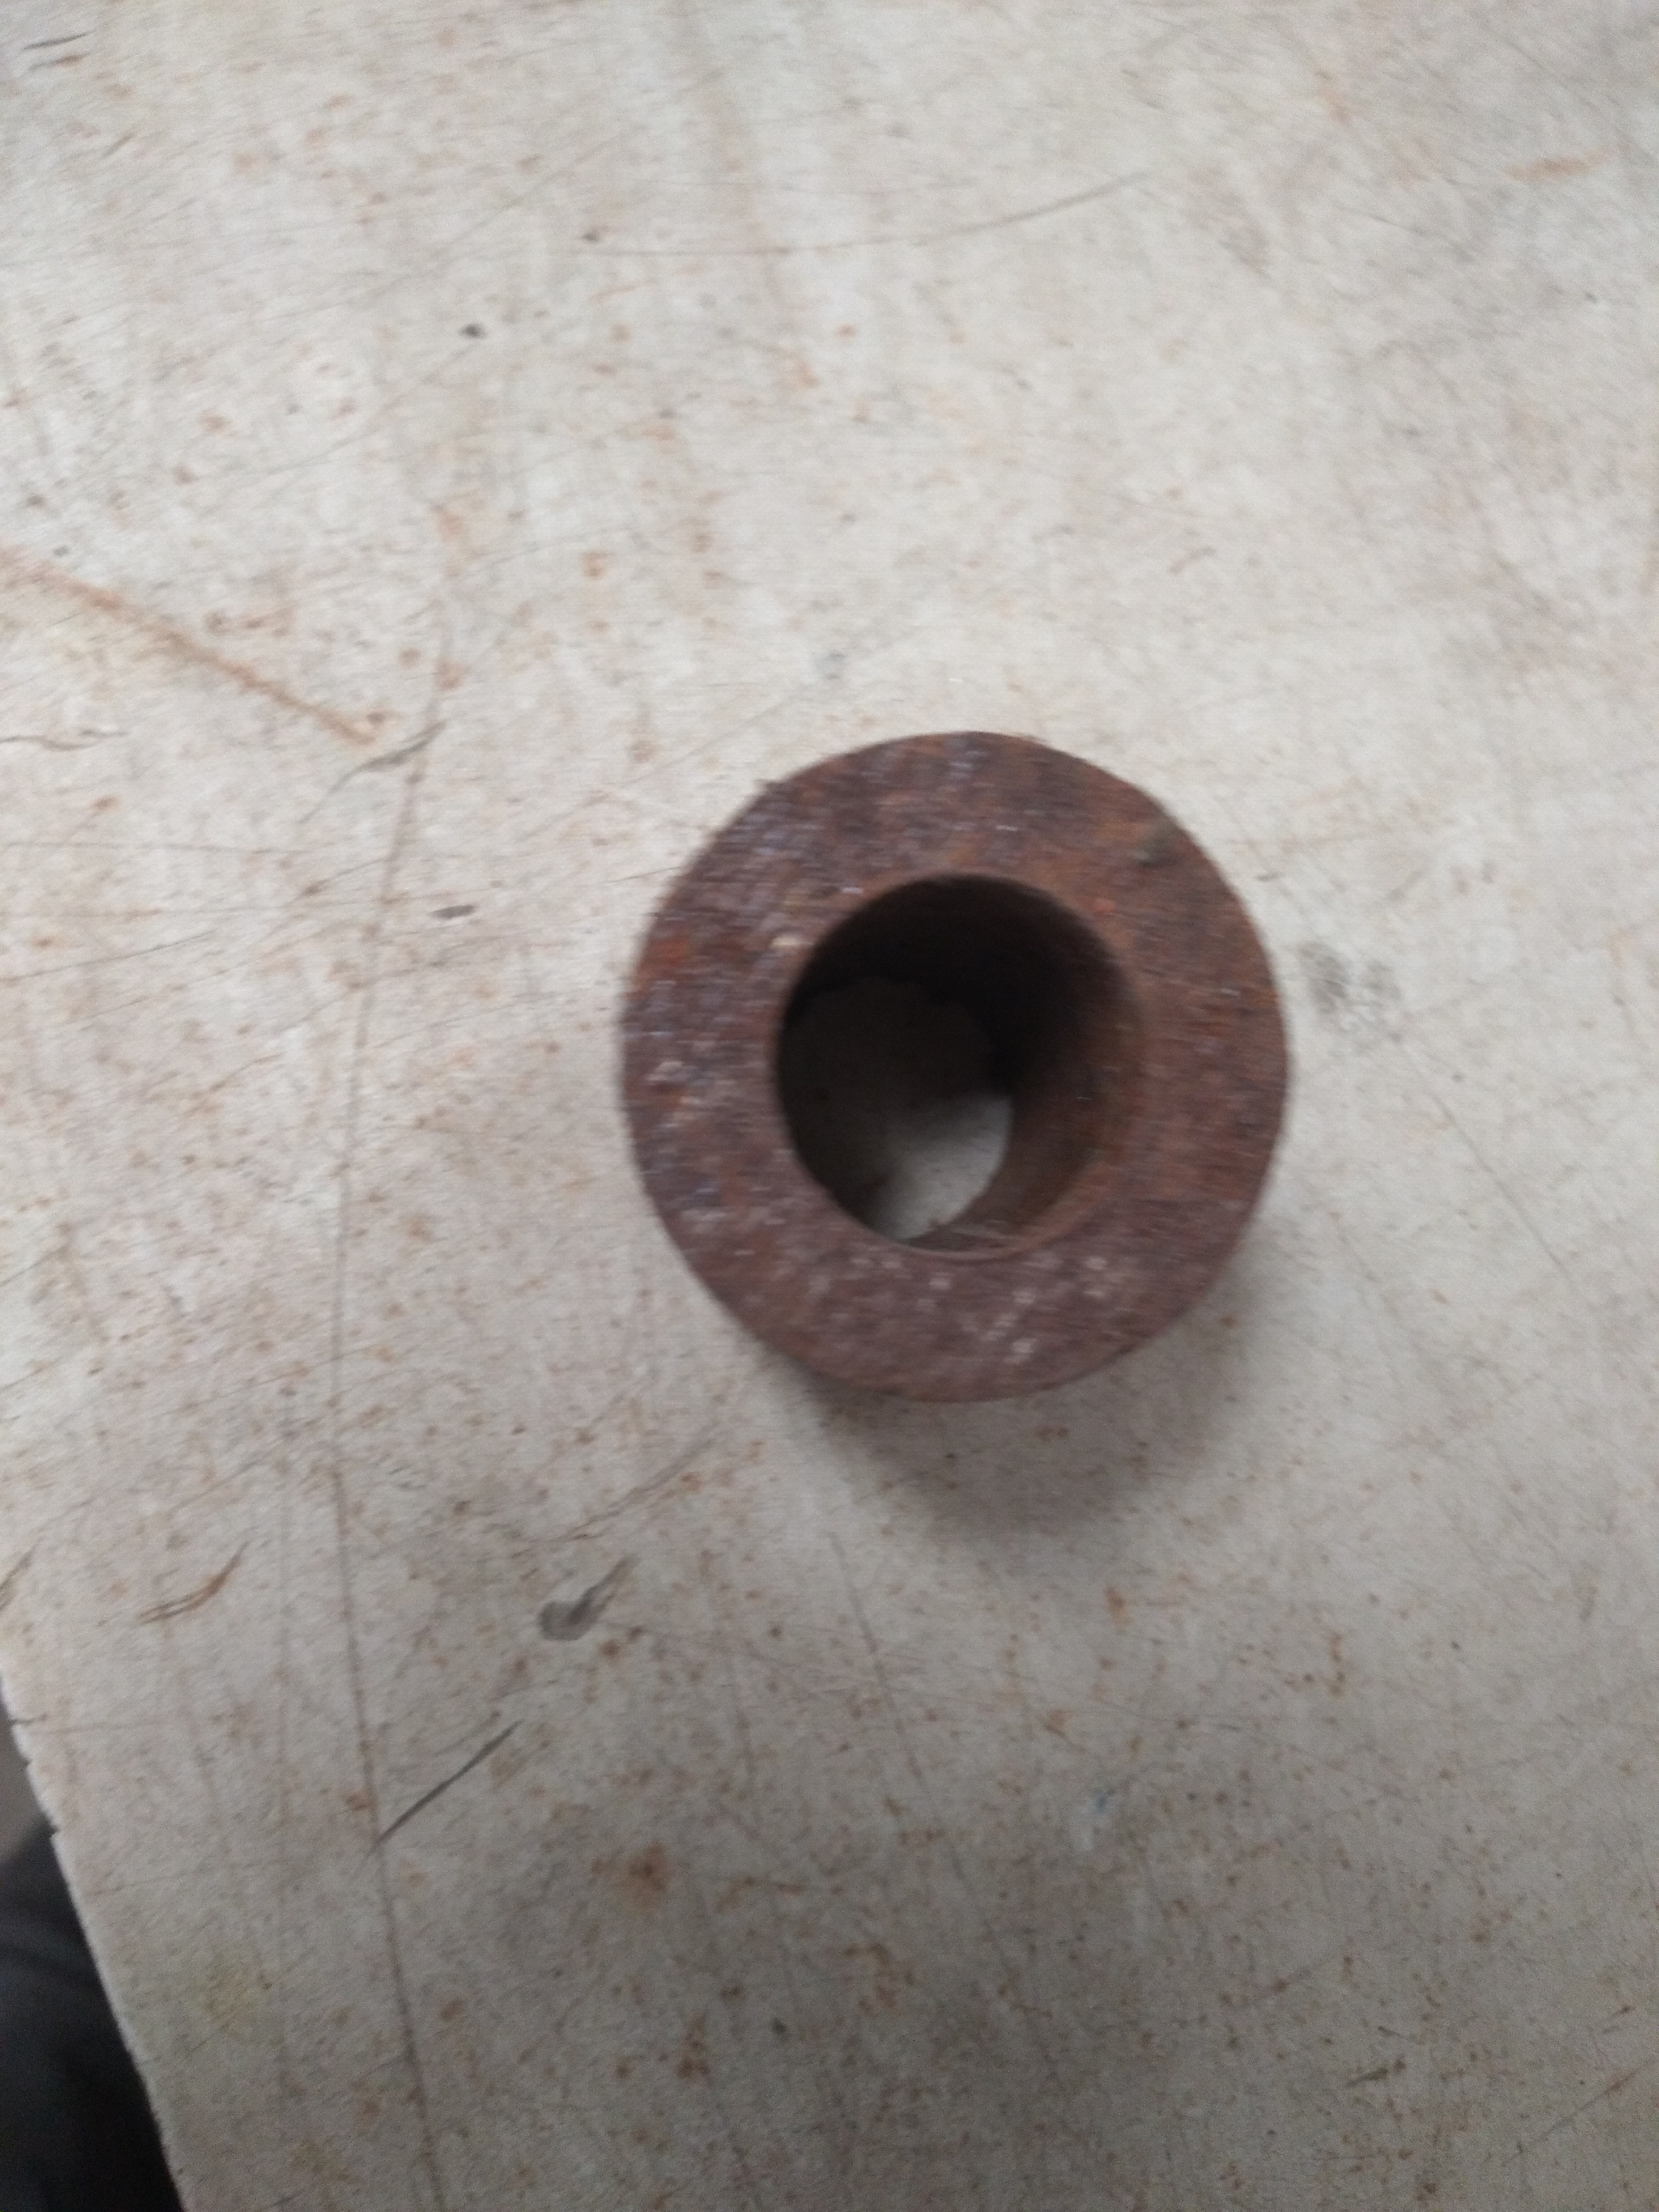No thread: (756, 813, 1213, 1285)
